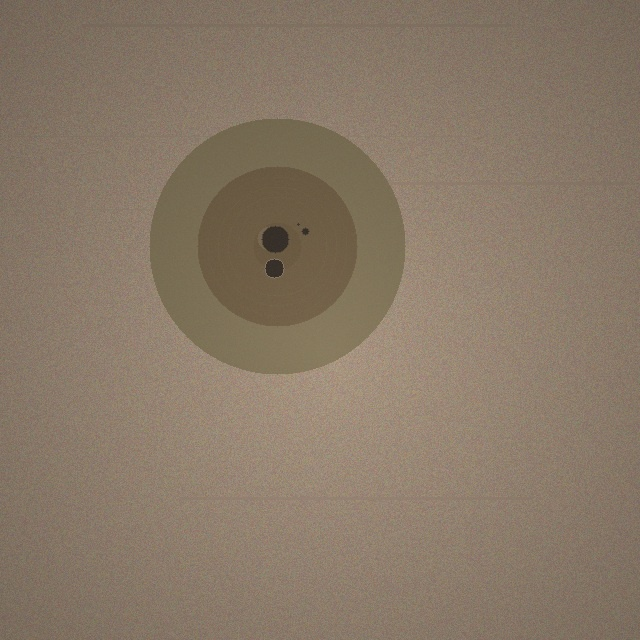shrinkage: (149, 118, 405, 374)
